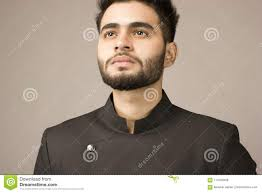Indian_Male: (100, 9, 163, 87)
